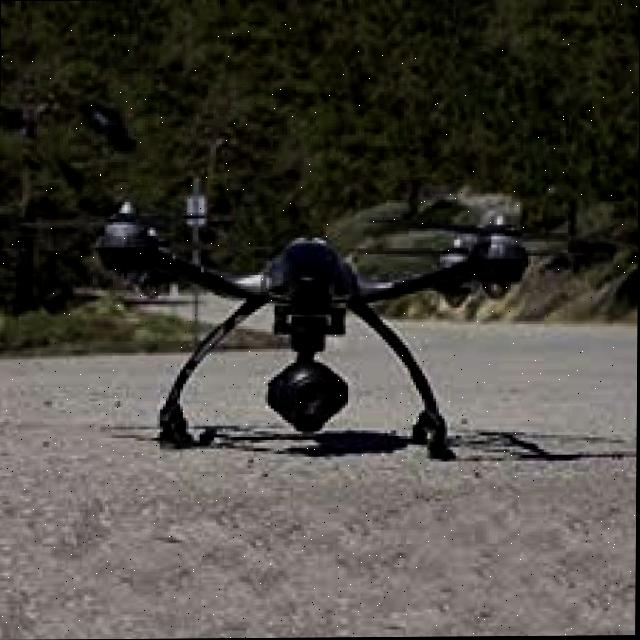drone: (0, 163, 579, 478)
